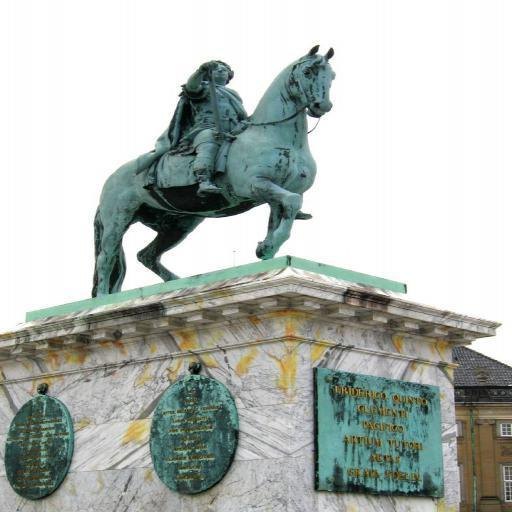horse: (93, 46, 338, 300)
